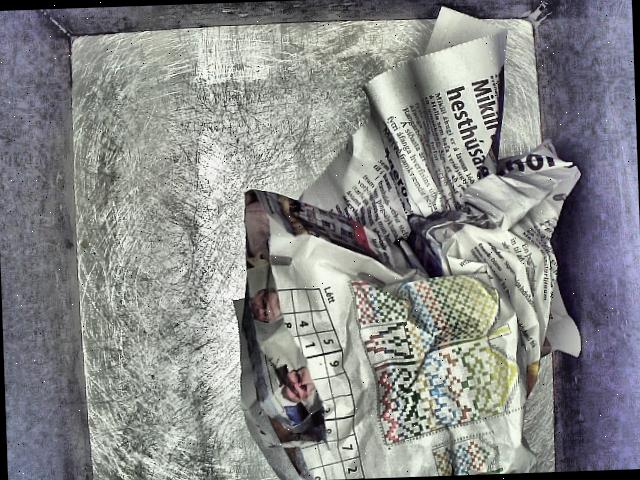Paper: (203, 0, 597, 480)
